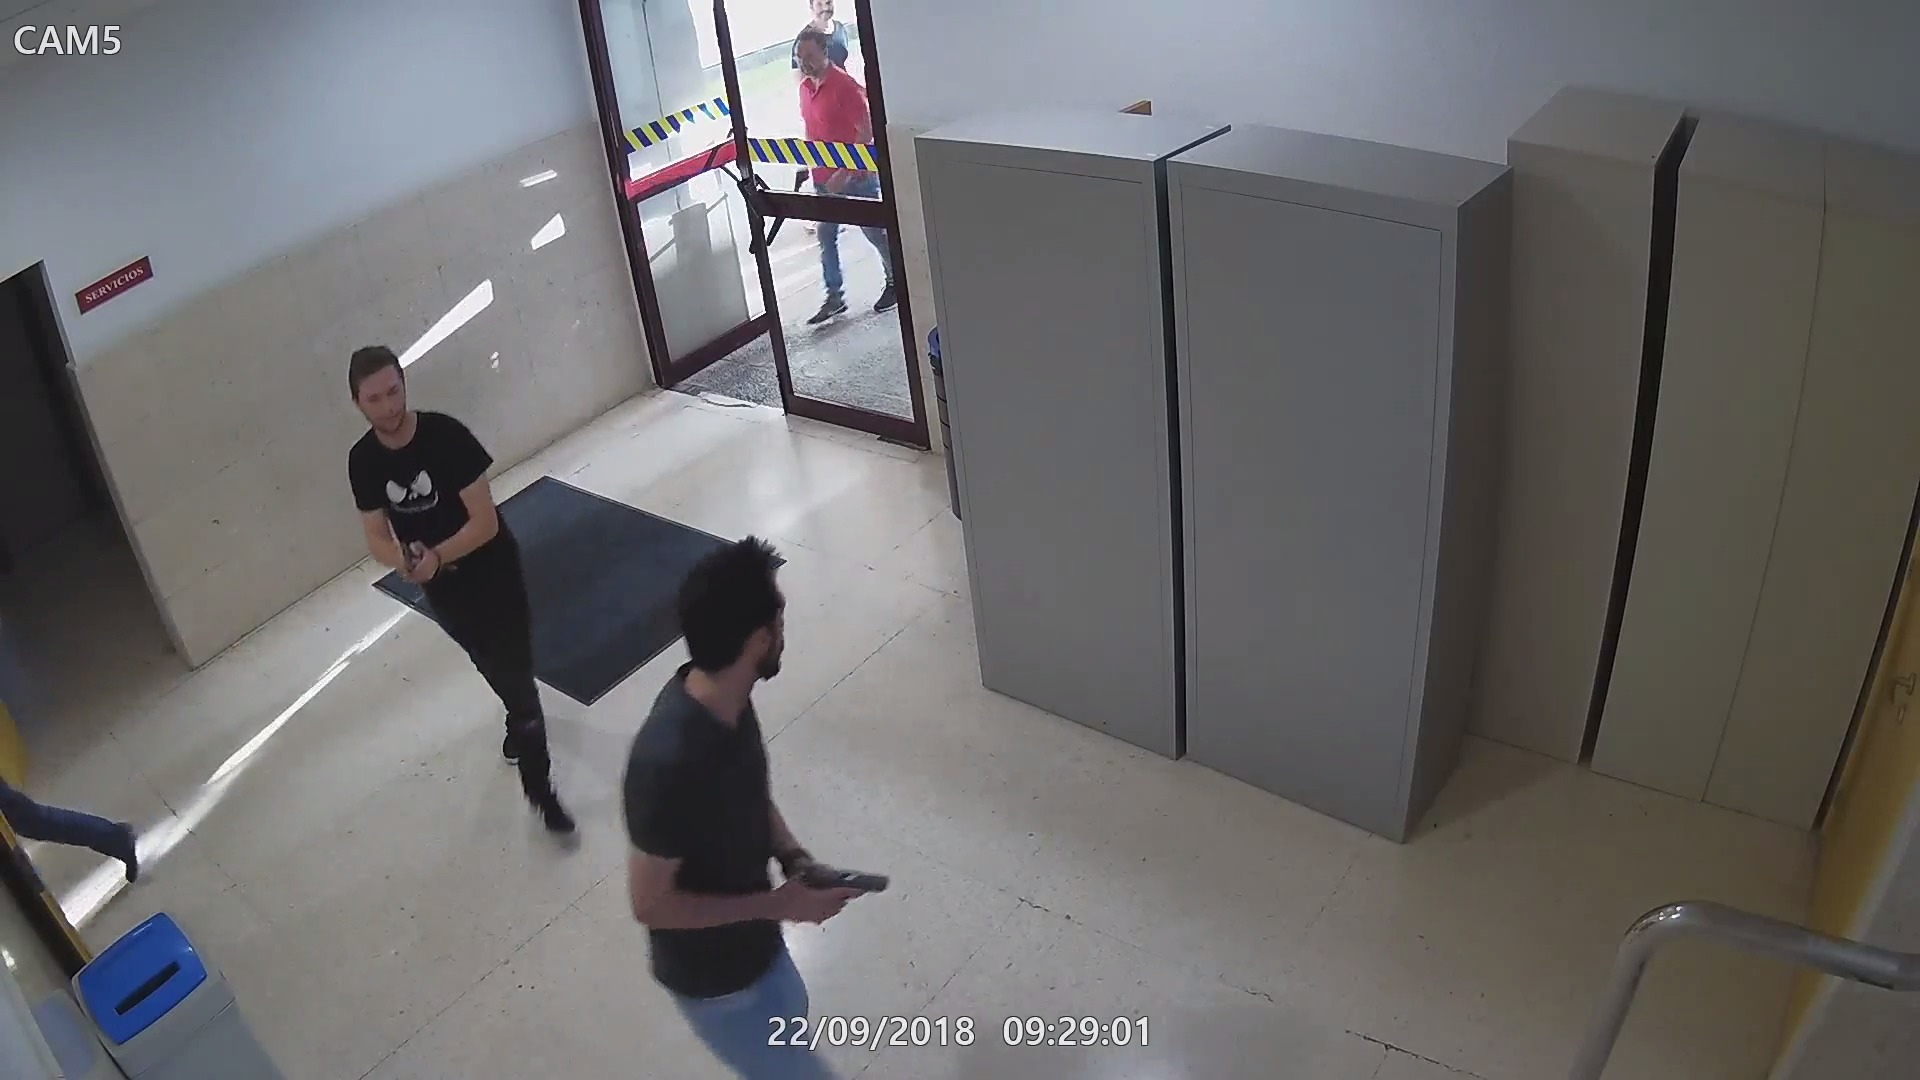Handgun: (785, 860, 897, 931), (392, 531, 440, 588), (789, 161, 814, 187)
